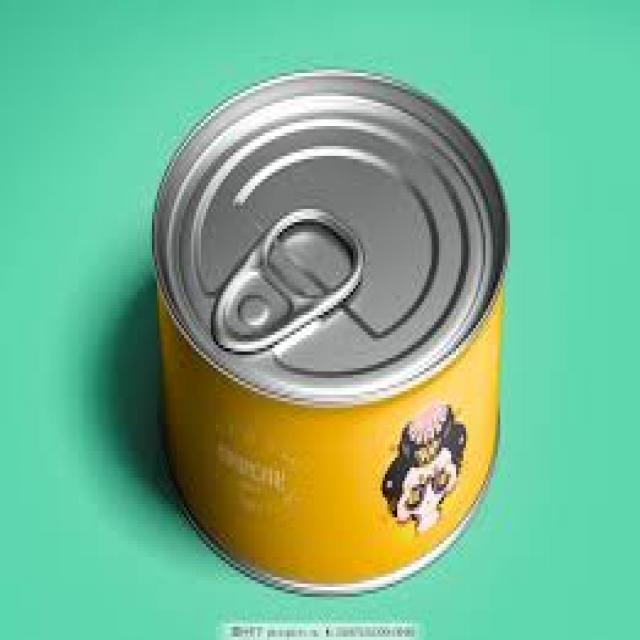recyclable: (153, 66, 511, 596)
